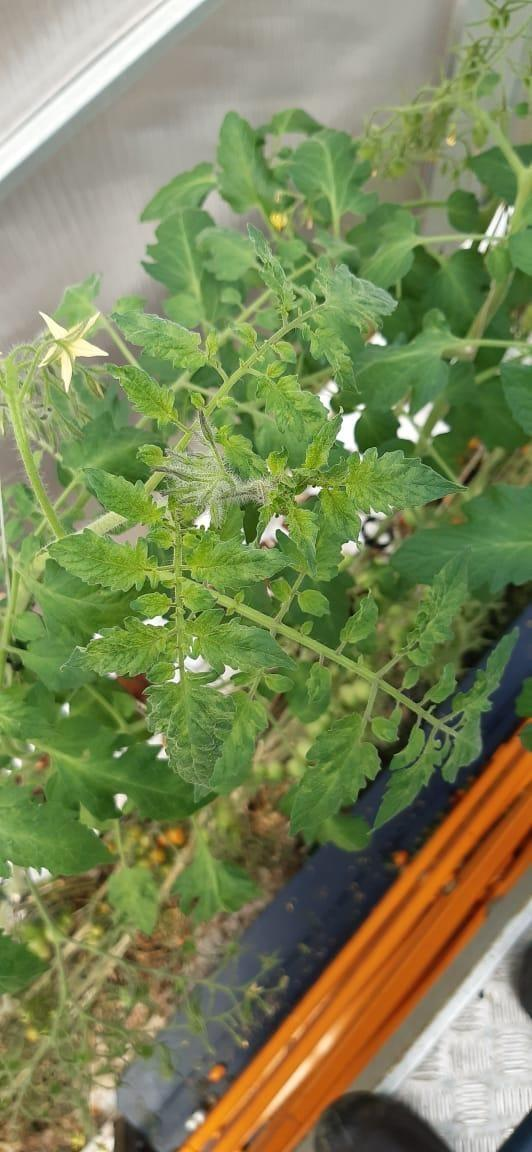Flor rugoso: (39, 312, 107, 392)
Hoja rugoso: (290, 715, 379, 839), (146, 673, 234, 786), (344, 448, 459, 512), (50, 529, 155, 591), (404, 566, 466, 669), (70, 616, 176, 675), (257, 375, 325, 461), (187, 538, 288, 590), (117, 314, 206, 373), (196, 613, 285, 671), (314, 265, 395, 326), (374, 756, 433, 830), (108, 364, 178, 425), (86, 469, 160, 525), (470, 629, 515, 710), (442, 713, 482, 782), (283, 502, 317, 569), (298, 419, 335, 470), (340, 594, 377, 644), (297, 588, 327, 617), (266, 453, 285, 476)
Pedunculo: (207, 590, 455, 738)
Pedunculo rugoso: (167, 328, 289, 458), (161, 451, 265, 527)
